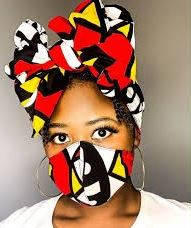with_facemask: (44, 146, 142, 215)
